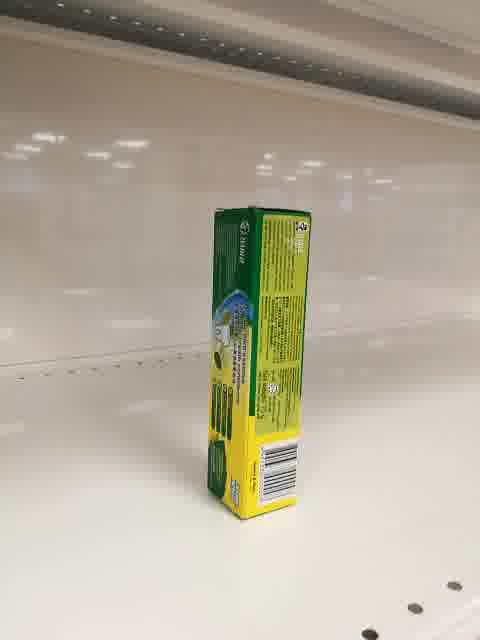toothpaste: (205, 206, 311, 523)
